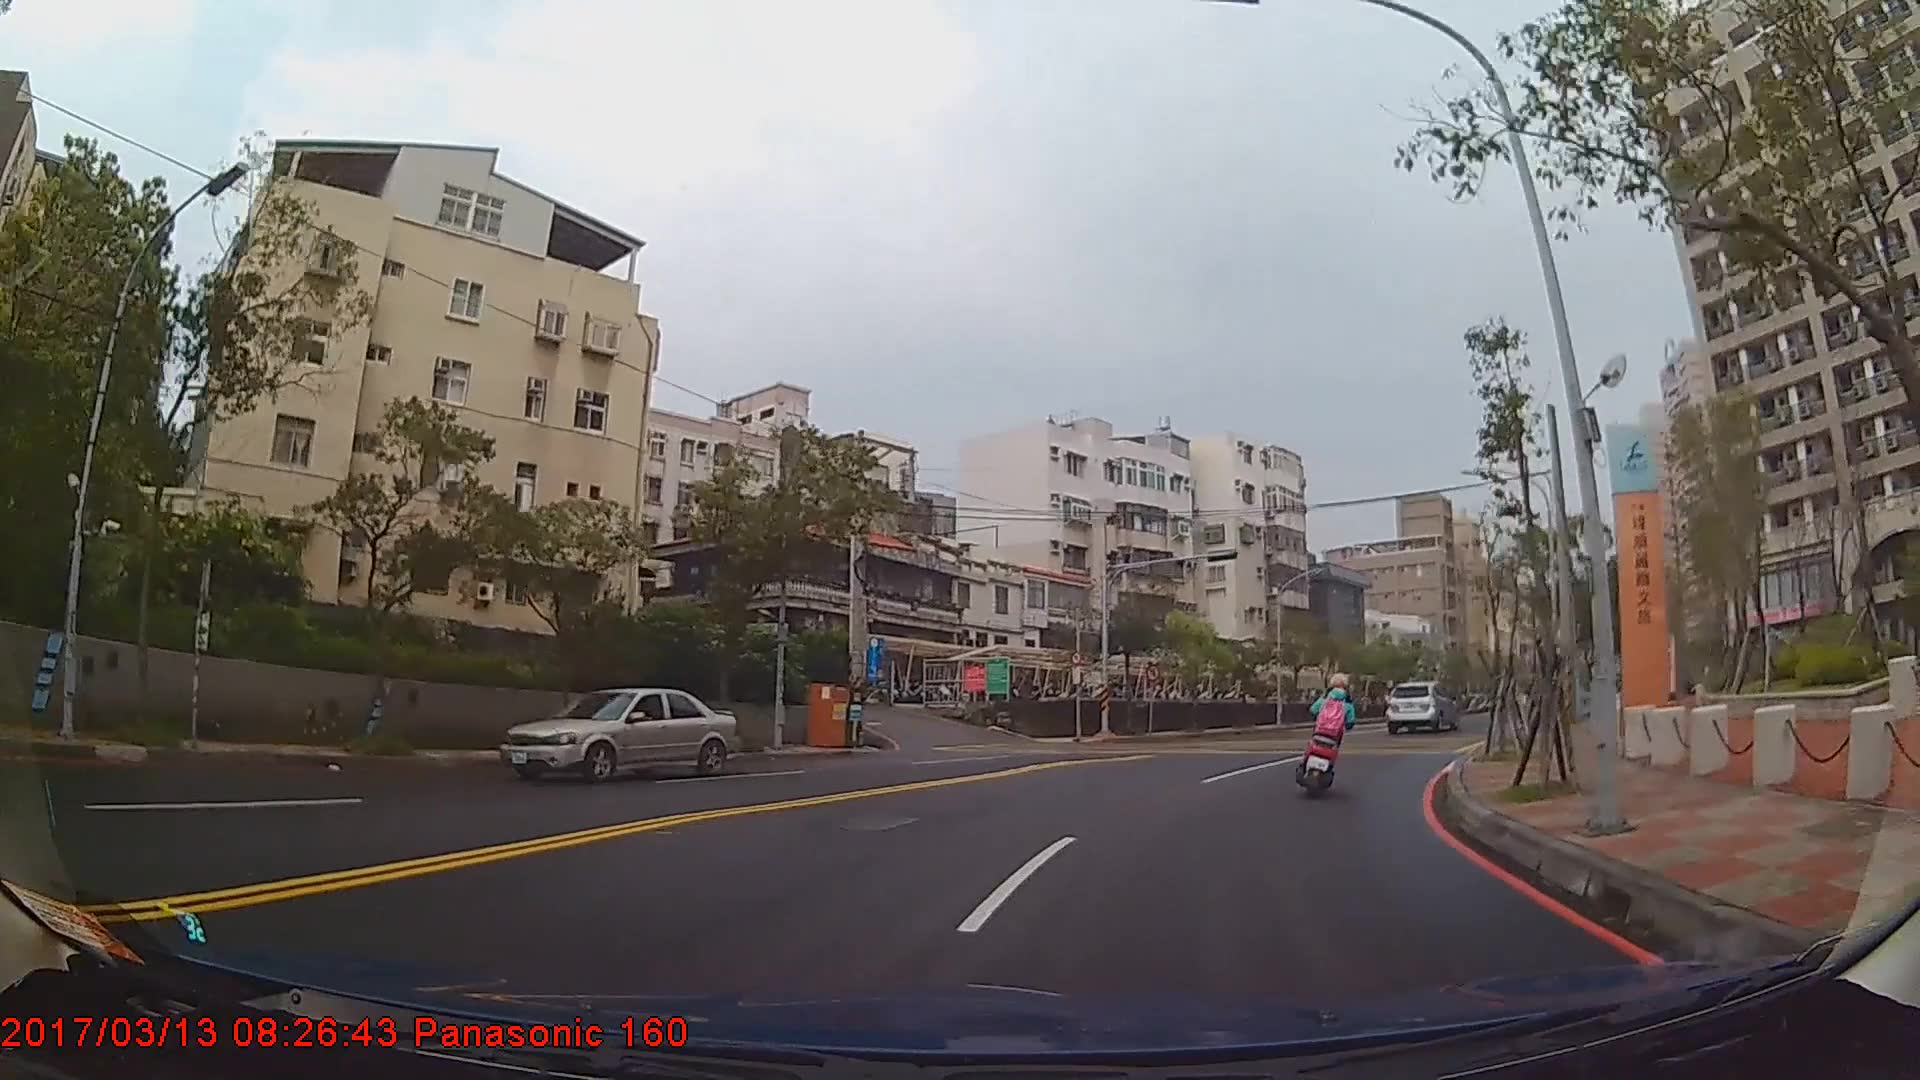rider: (1301, 673, 1360, 794)
vehicle: (500, 687, 739, 786), (1385, 678, 1454, 733)
